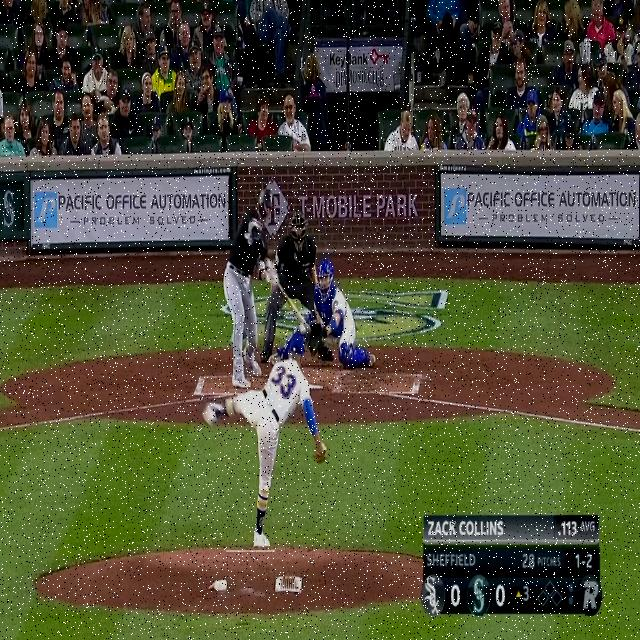baseball: (298, 323, 307, 336)
